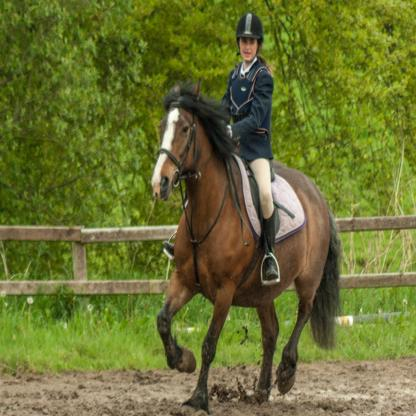Helmet: (239, 11, 266, 58)
